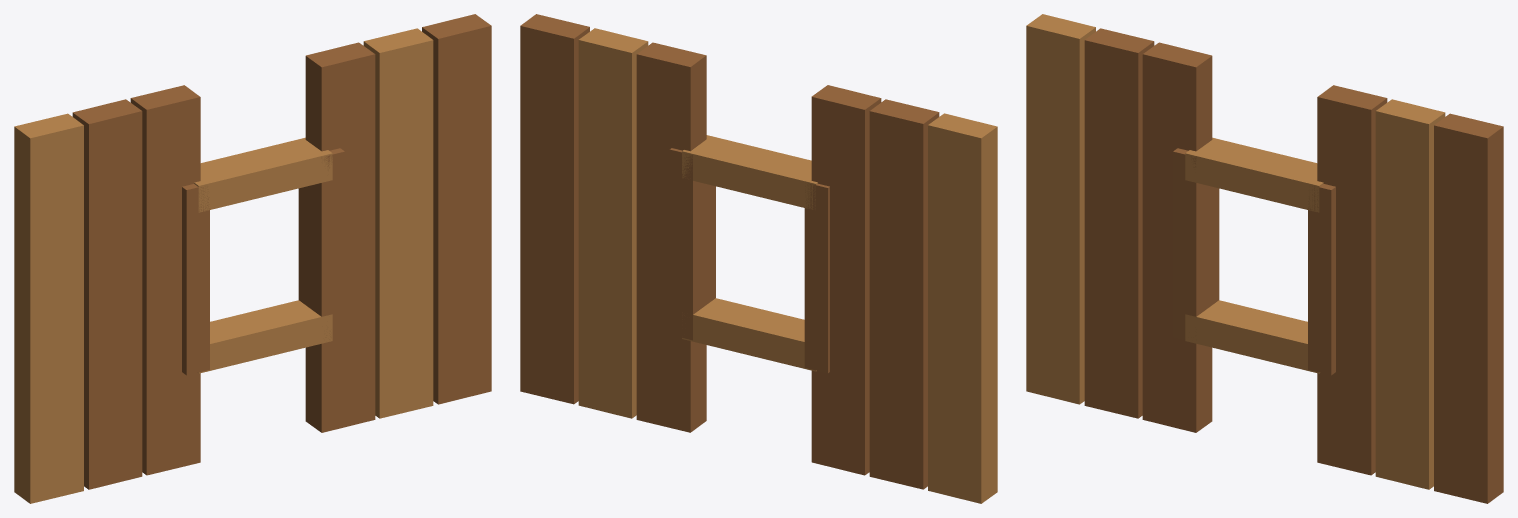
Rendered from wood_wall_window.glb.
The picture shows the model from 3 angles, left to right: view 1: azimuth 30°, elevation 25°; view 2: azimuth 150°, elevation 25°; view 3: azimuth 330°, elevation 25°; orthographic projection.
Visible parts, largest first — view 1: Wall_1.001, Wall_2.001, Wall_7.001, Wall_8.001, Wall_6.001, Wall_3.001, Window_Right, Window_Header, Window_Sill, Window_Left; view 2: Wall_1.001, Wall_7.001, Wall_2.001, Wall_8.001, Wall_6.001, Wall_3.001, Window_Right, Window_Header, Window_Sill, Window_Left; view 3: Wall_8.001, Wall_2.001, Wall_7.001, Wall_1.001, Wall_3.001, Wall_6.001, Window_Left, Window_Header, Window_Sill, Window_Right.
Boxes of the visible parts, bbox=[...] form: Wall_1.001: bbox=[14, 113, 83, 503]; Wall_2.001: bbox=[72, 99, 142, 489]; Wall_7.001: bbox=[363, 28, 433, 418]; Wall_8.001: bbox=[422, 14, 491, 404]; Wall_6.001: bbox=[305, 42, 375, 432]; Wall_3.001: bbox=[130, 85, 200, 475]; Window_Right: bbox=[298, 148, 344, 339]; Window_Header: bbox=[194, 137, 332, 212]; Window_Sill: bbox=[198, 300, 332, 373]; Window_Left: bbox=[182, 184, 209, 375]; Wall_1.001: bbox=[928, 113, 997, 503]; Wall_7.001: bbox=[578, 28, 648, 418]; Wall_2.001: bbox=[869, 99, 939, 489]; Wall_8.001: bbox=[520, 14, 589, 404]; Wall_6.001: bbox=[636, 42, 706, 432]; Wall_3.001: bbox=[811, 85, 881, 475]; Window_Right: bbox=[669, 148, 715, 340]; Window_Header: bbox=[682, 135, 817, 209]; Window_Sill: bbox=[682, 298, 816, 371]; Window_Left: bbox=[804, 183, 829, 373]; Wall_8.001: bbox=[1434, 113, 1503, 503]; Wall_2.001: bbox=[1084, 28, 1154, 418]; Wall_7.001: bbox=[1375, 99, 1445, 489]; Wall_1.001: bbox=[1026, 14, 1095, 404]; Wall_3.001: bbox=[1142, 42, 1212, 432]; Wall_6.001: bbox=[1317, 85, 1387, 475]; Window_Left: bbox=[1173, 148, 1219, 339]; Window_Header: bbox=[1185, 137, 1323, 212]; Window_Sill: bbox=[1185, 300, 1319, 373]; Window_Right: bbox=[1308, 184, 1335, 375].
Size of the model in its own units: 3.96 by 3 by 0.34.
